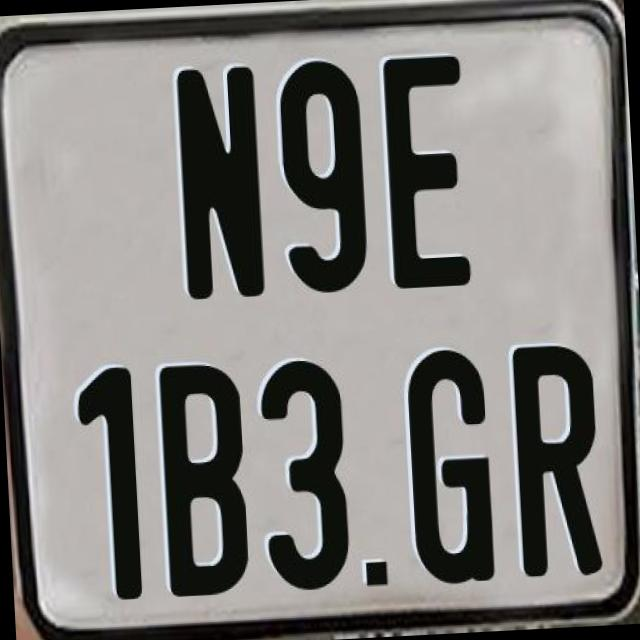1: (72, 362, 146, 605)
3: (260, 358, 354, 590)
9: (274, 57, 372, 300)
B: (156, 362, 250, 604)
E: (378, 52, 474, 294)
G: (406, 348, 497, 589)
N: (173, 63, 263, 304)
R: (512, 342, 606, 580)
